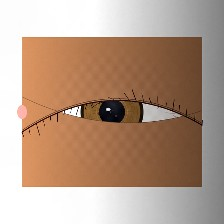pterygium_lesion: (21, 89, 79, 135)
